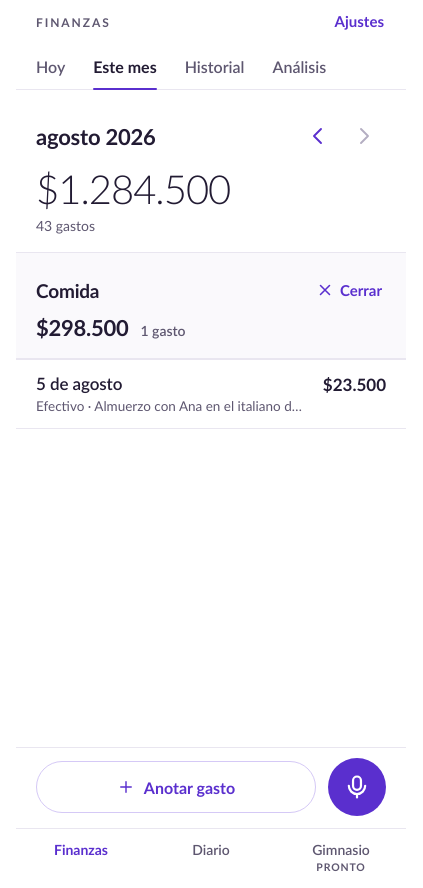
Test case: B2 / 18.9 — the month and the category live in the location › drops the selection when the month changes (18.7)
Expected: the text "$298.500" is shown, [36,314,128,341]
Step 1. Click the button named "Mes anterior" → (318, 136), box [296,114,340,158]
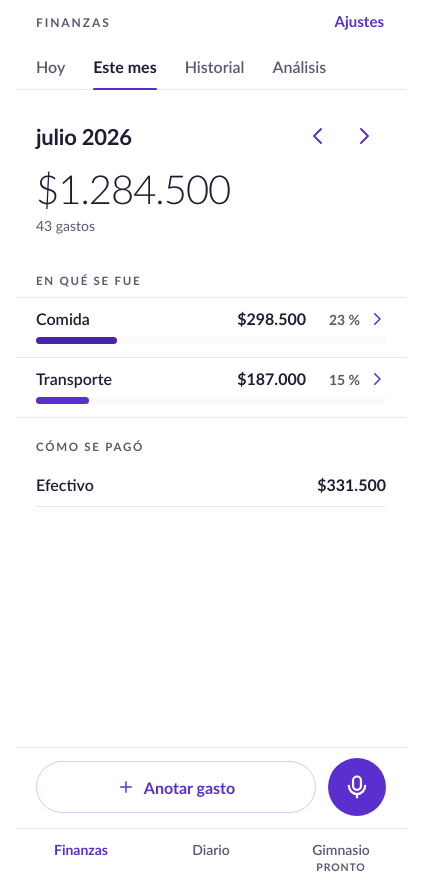
Expected: the text "julio 2026" is shown, [36,122,132,150]
Expected: the text "En qué se fue" is shown, [36,274,141,287]
